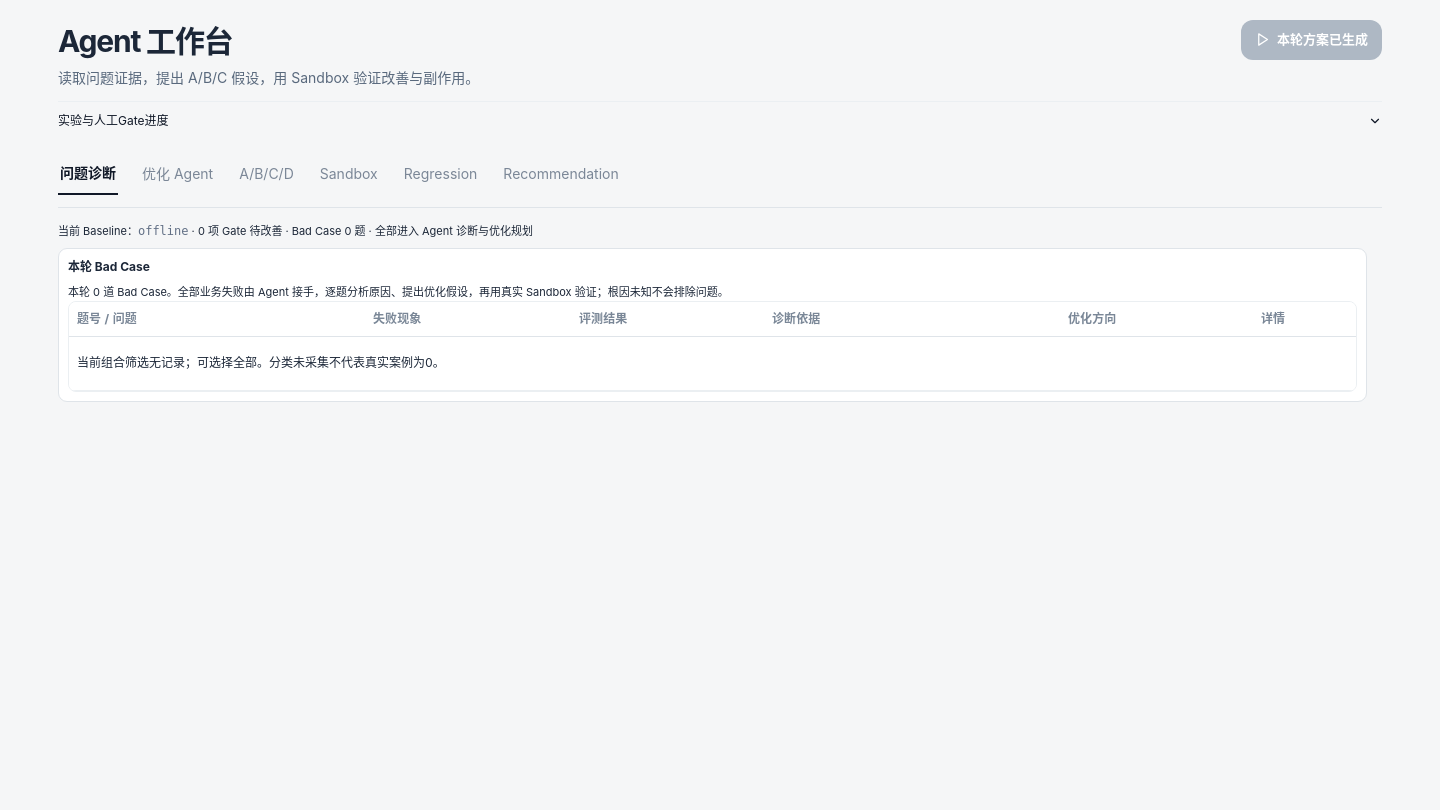
Scenario: separates saved formal blockers from confirmed regression without clearing pending risk
What coordinates should you click on to do the following:
click the button "Sandbox"
I would click on:
 (349, 174)
Its box is [318,152,380,195].
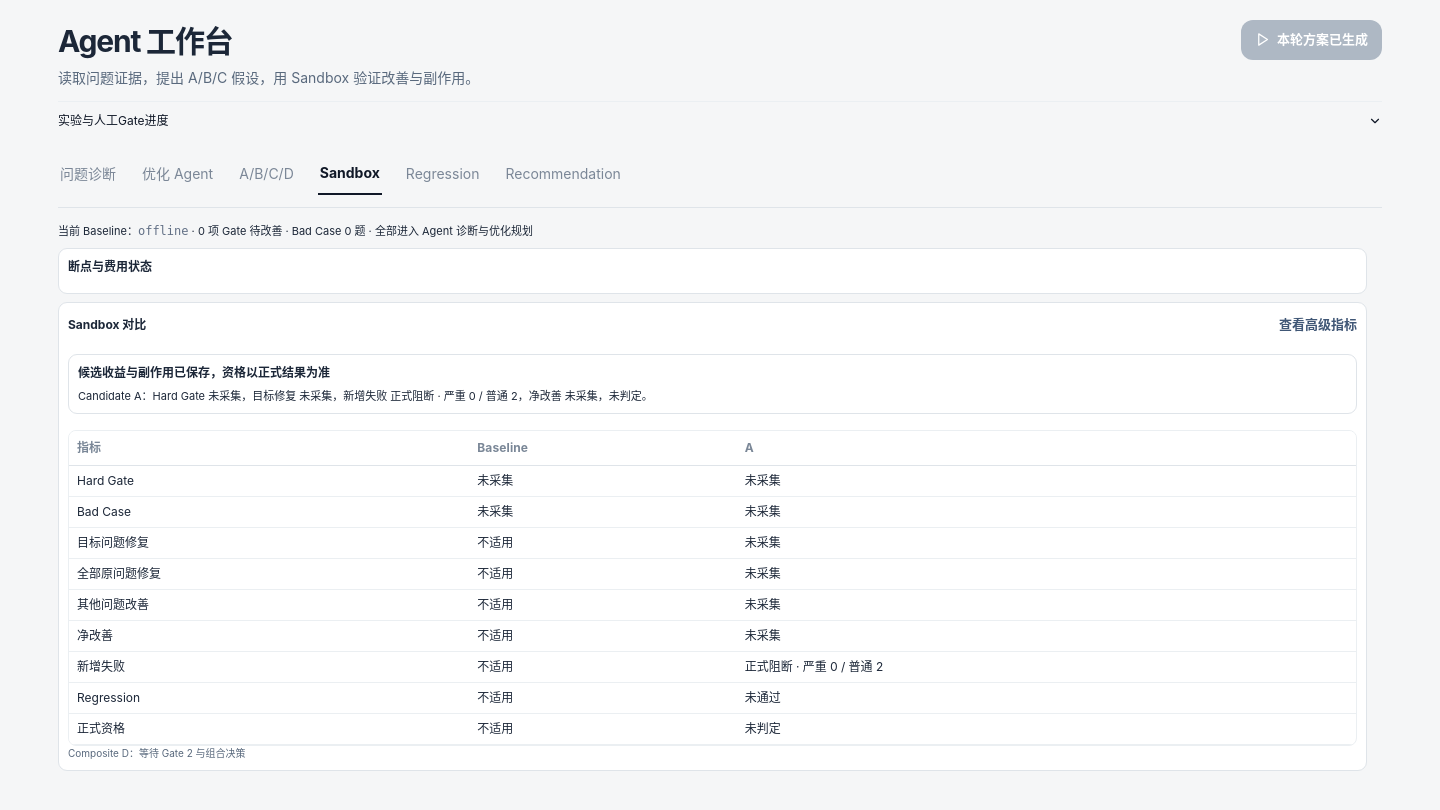
Expected: the element with class "sandbox-core-table" shows "正式阻断 · 严重 0 / 普通 2", [745,659,884,674]
Expected: the text "未通过" is shown, [737,683,1356,714]
